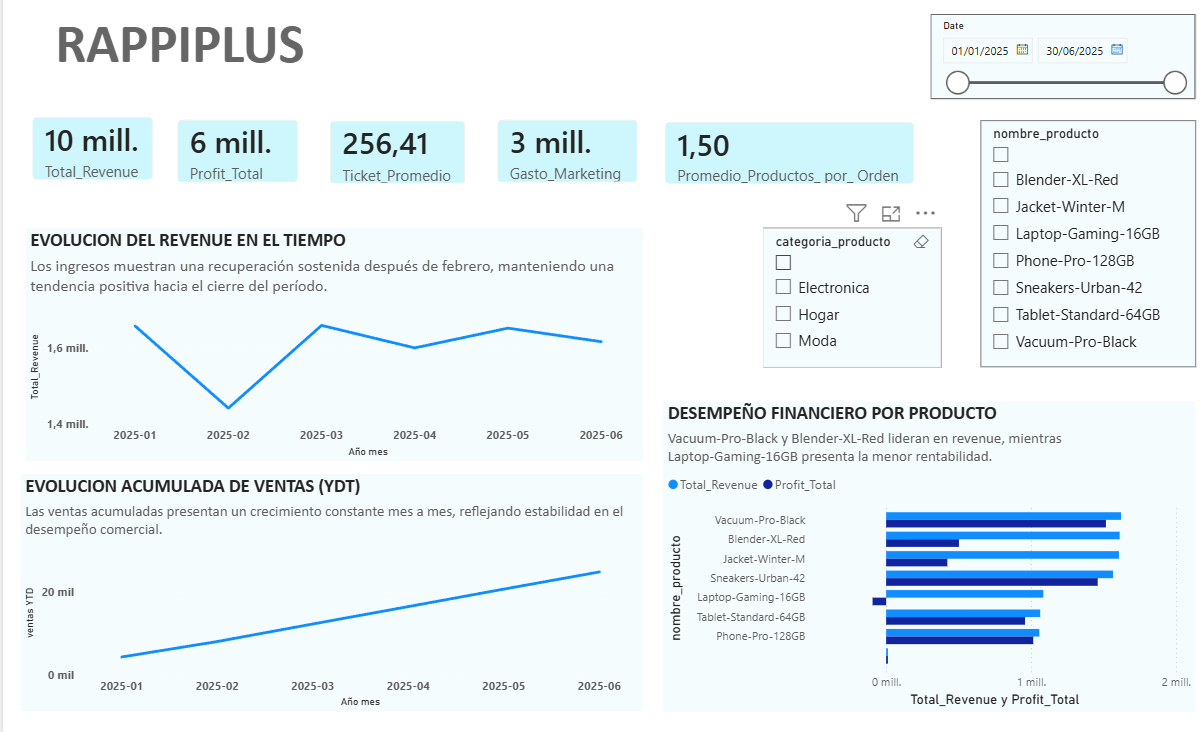

The page's visual inventory and layout, read from the dashboard file:
{"tool":"powerbi","page":{"name":"Overview","canvas":[1288,800],"ordinal":0},"visuals":[{"type":"cardVisual","fields":{"Data":["orders_clean.Total_Revenue"]},"box":[14.7,114.8,163.4,101.6],"z":1000},{"type":"lineChart","title":"EVOLUCION DEL REVENUE EN EL TIEMPO","fields":{"Category":["Dim_fecha.Año mes"],"Y":["orders_clean.Total_Revenue"]},"box":[23.6,250.3,662.6,250.3],"z":7000},{"type":"lineChart","title":"EVOLUCION ACUMULADA DE VENTAS  (YDT)","fields":{"Category":["Dim_fecha.Año mes"],"Y":["orders_clean.ventas YTD"]},"box":[19.1,515.3,667,254.7],"z":8000},{"type":"clusteredBarChart","title":"DESEMPEÑO FINANCIERO POR PRODUCTO","fields":{"Y":["orders_clean.Total_Revenue","orders_clean.Profit_Total"],"Category":["orders_clean.nombre_producto"]},"box":[708.2,437.3,571.3,332.7],"z":9000},{"type":"slicer","fields":{"Values":["Dim_fecha.Date"]},"box":[995.3,22.1,284.2,91.3],"z":11000},{"type":"slicer","fields":{"Values":["orders_clean.categoria_producto"]},"box":[815.7,250.3,191.4,150.2],"z":12000},{"type":"slicer","fields":{"Values":["orders_clean.nombre_producto"]},"box":[1048.3,135.5,231.2,265],"z":13000},{"type":"textbox","box":[51.5,11.8,315.1,92.8],"z":14001},{"type":"cardVisual","fields":{"Data":["orders_clean.Profit_Total"]},"box":[170.8,117.8,163.4,101.6],"z":14002},{"type":"cardVisual","fields":{"Data":["marketing_clean.Gasto_Marketing"]},"box":[513.8,117.8,184,101.6],"z":14004},{"type":"cardVisual","fields":{"Data":["orders_clean.Ticket_Promedio"]},"box":[334.2,119.3,179.6,101.6],"z":14005},{"type":"cardVisual","fields":{"Data":["orders_clean.Promedio_Productos_ por_ Orden"]},"box":[693.5,120.7,301.8,100.1],"z":14006}]}

Visuals, with their boxes in screenshot pixels (x1, y1, x2, y2), scaled from the page's 1288x800 canvas onto the 1202x732 screenshot:
cardVisual - orders_clean.Total_Revenue: Rect(14, 105, 166, 198)
"EVOLUCION DEL REVENUE EN EL TIEMPO" lineChart: Rect(22, 229, 640, 458)
"EVOLUCION ACUMULADA DE VENTAS  (YDT)" lineChart: Rect(18, 471, 640, 705)
"DESEMPEÑO FINANCIERO POR PRODUCTO" clusteredBarChart: Rect(661, 400, 1194, 705)
slicer - Dim_fecha.Date: Rect(929, 20, 1194, 104)
slicer - orders_clean.categoria_producto: Rect(761, 229, 940, 366)
slicer - orders_clean.nombre_producto: Rect(978, 124, 1194, 366)
textbox: Rect(48, 11, 342, 96)
cardVisual - orders_clean.Profit_Total: Rect(159, 108, 312, 201)
cardVisual - marketing_clean.Gasto_Marketing: Rect(479, 108, 651, 201)
cardVisual - orders_clean.Ticket_Promedio: Rect(312, 109, 479, 202)
cardVisual - orders_clean.Promedio_Productos_ por_ Orden: Rect(647, 110, 929, 202)
